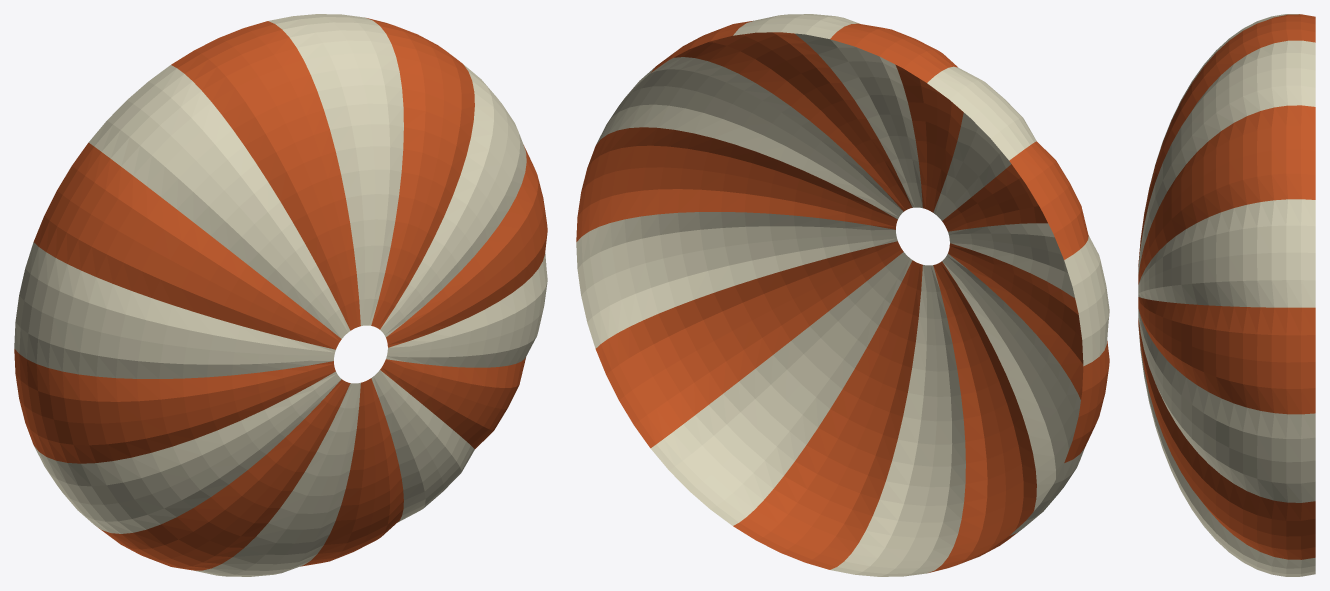
Rendered from parachute_partial.obj.
3 views of the same model, side by side, from view 1: azimuth 30°, elevation 25°; view 2: azimuth 150°, elevation 25°; view 3: azimuth 270°, elevation 25° (orthographic). The views are drawn at different scales.
Visible parts, largest first — view 1: parachute_partial; view 2: parachute_partial; view 3: parachute_partial.
Boxes of the visible parts, x1,y1,x2,y2 form: parachute_partial: [14, 14, 547, 576]; parachute_partial: [576, 14, 1109, 576]; parachute_partial: [1138, 14, 1315, 576].
Size of the model in its own units: 1.52 by 1.52 by 0.4777.
